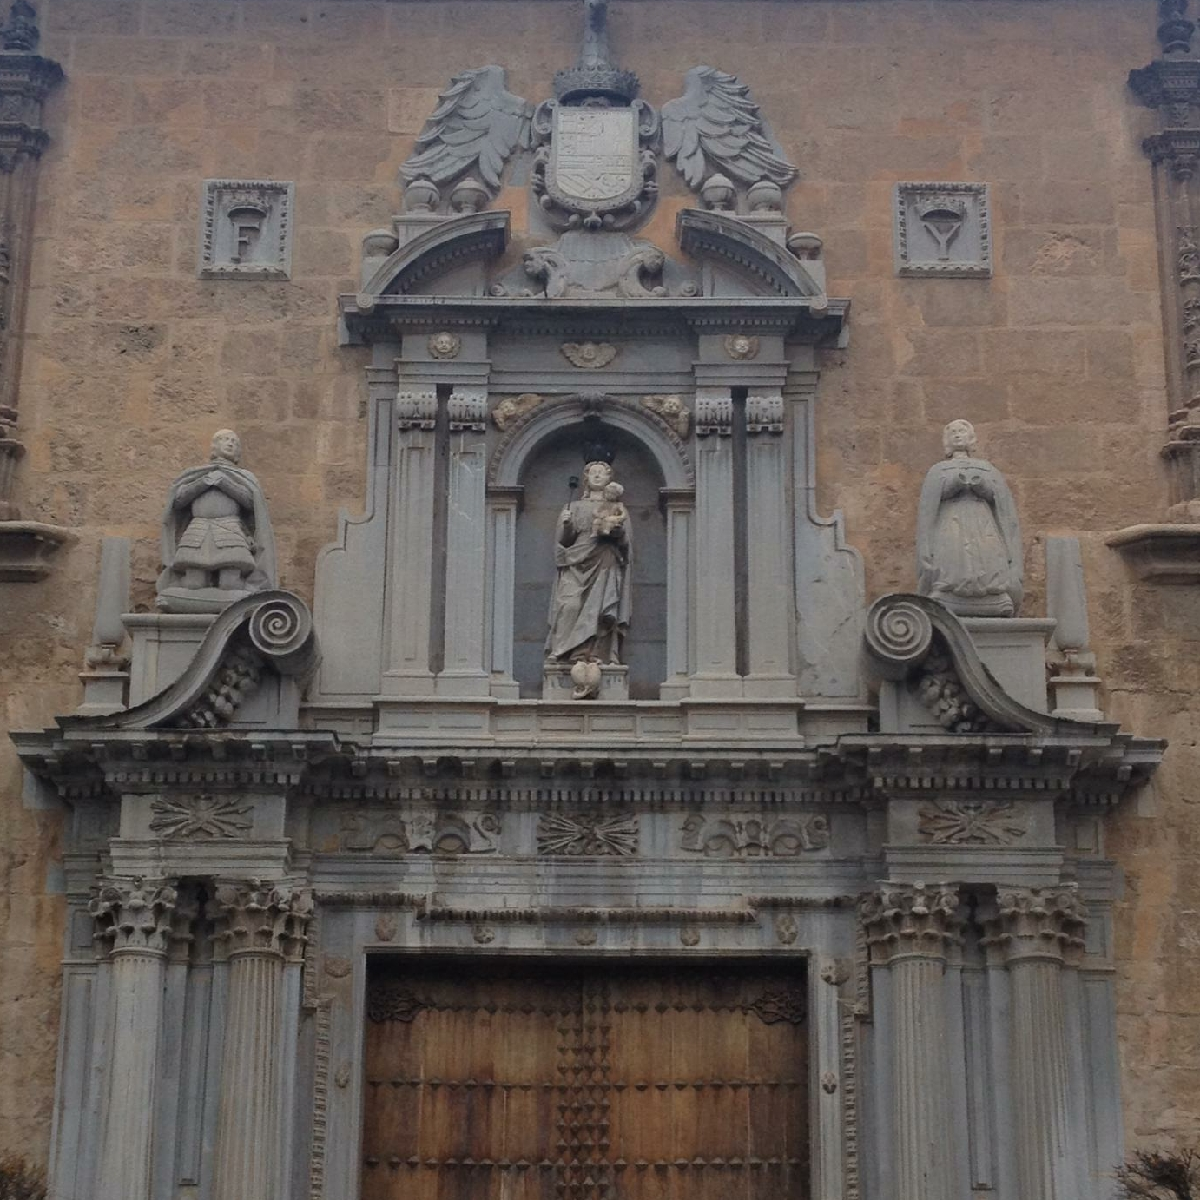arco-medio-punto: (495, 405, 677, 513)
fronton-partido: (91, 590, 1073, 756), (351, 200, 832, 323)
